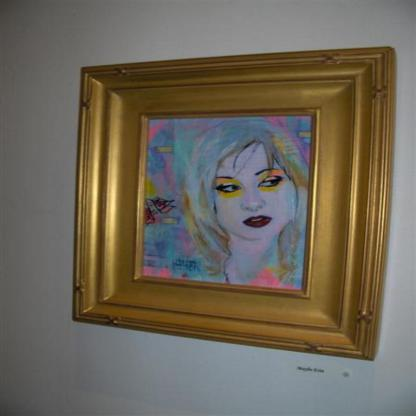Picture-frame: (73, 46, 395, 364)
